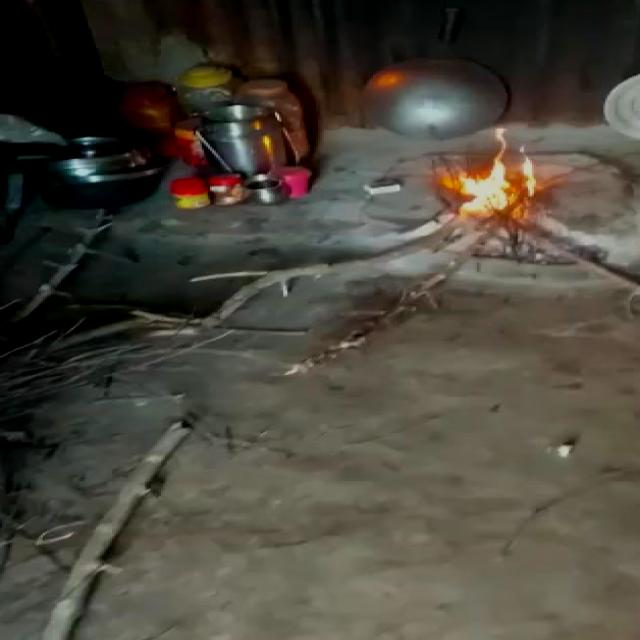firerotation: (424, 124, 540, 224)
